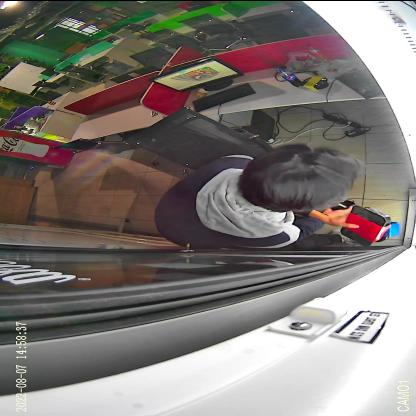blue: (375, 221, 399, 242)
red: (340, 204, 392, 247)
